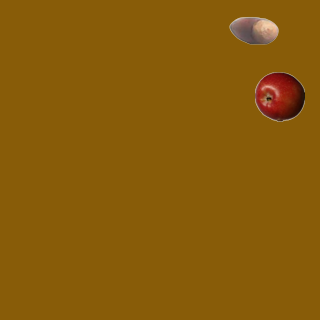Apple Braeburn: (254, 71, 304, 121)
Hazelnut: (228, 5, 278, 55)
